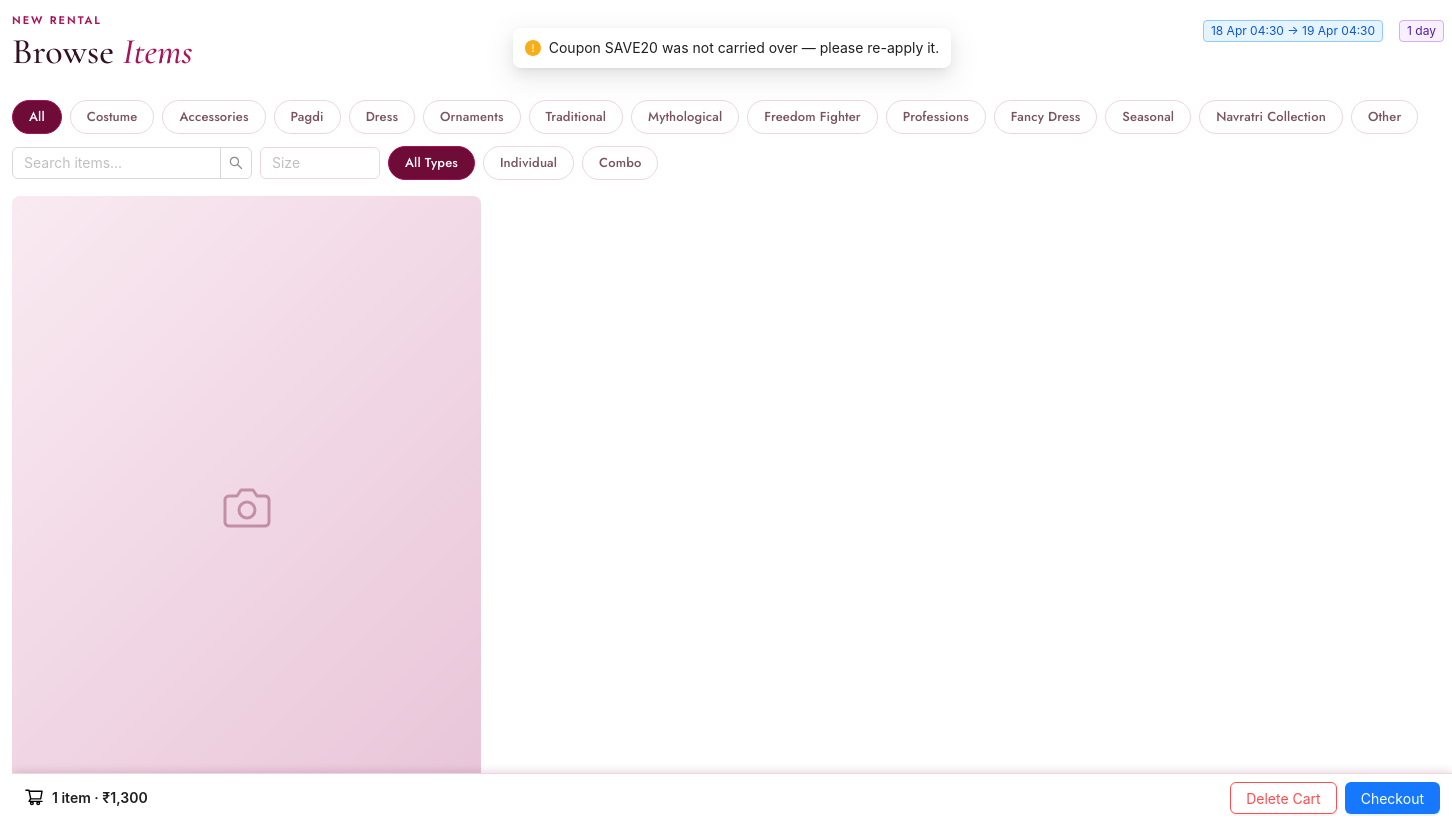
Test: CheckoutPage eligible coupons › shows the empty state when no coupons are eligible, and manual entry still works
The width and height of the screenshot is (1452, 822).
Click the button "Checkout" at (1392, 798), box [1345,782,1440,814]
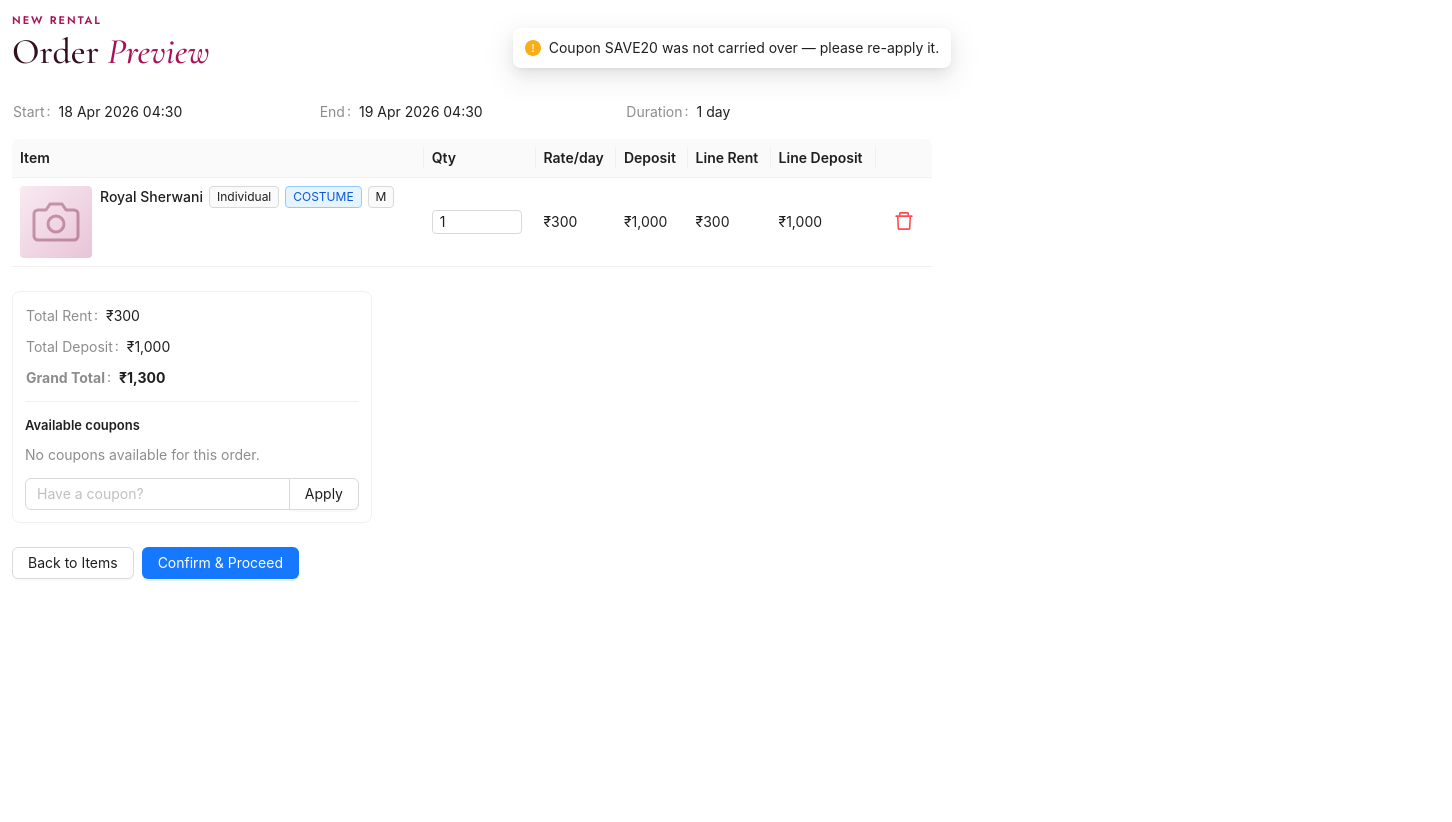
Expected: the text "No coupons available for this order." is shown, [25,446,260,463]
Type "SAVE20" into the field with placeholder "Have a coupon?" at (157, 494), box [25,478,290,510]
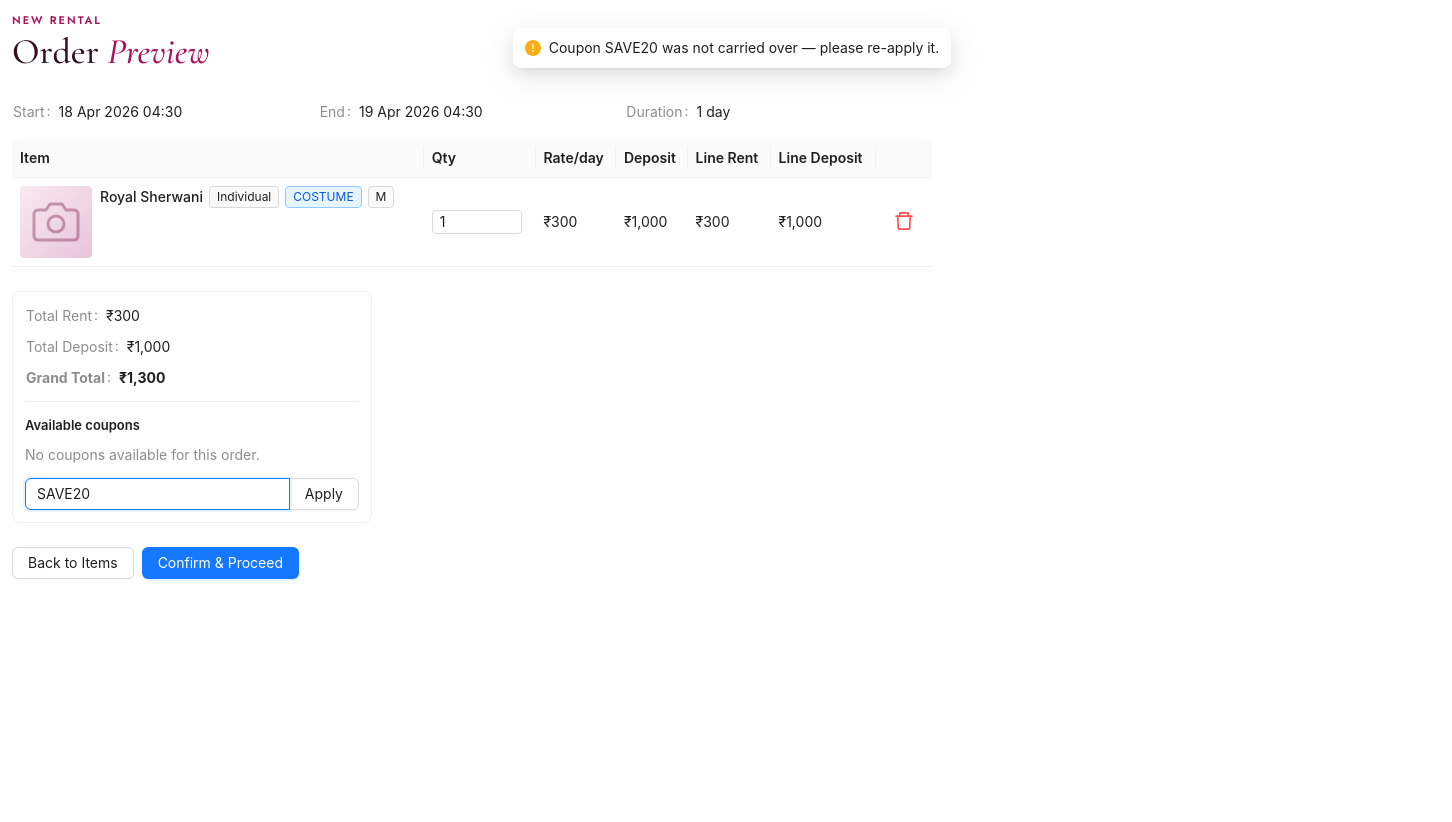
Click the button "Apply" at (324, 494), box [289,478,359,510]
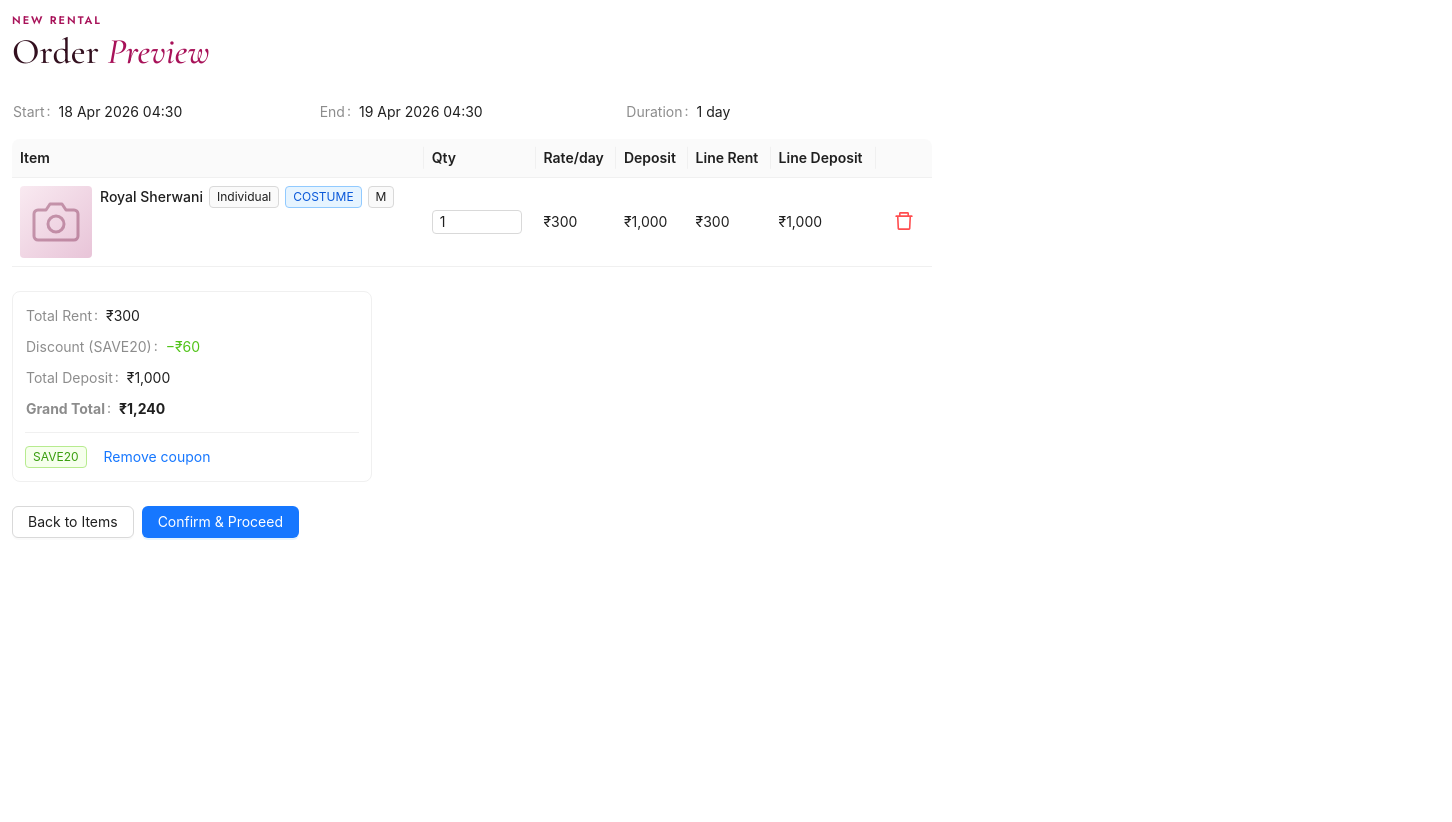
Expected: the text "Discount (SAVE20)" is shown, [26,336,166,358]
